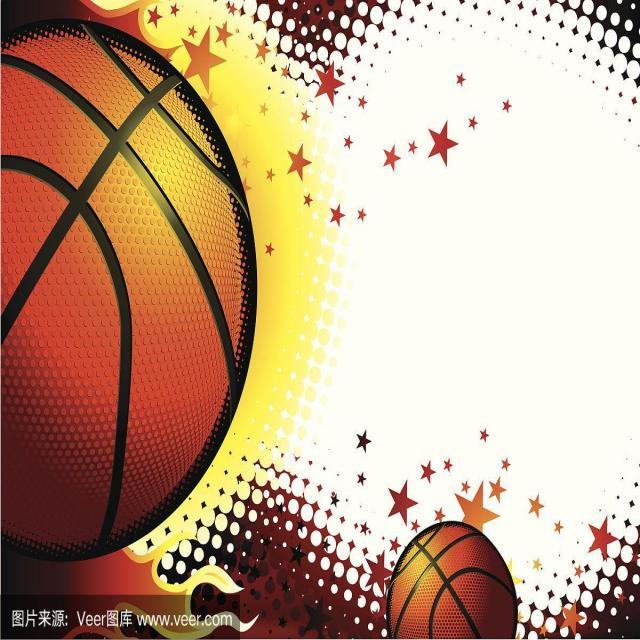rim: (2, 18, 256, 559), (386, 521, 518, 640)
